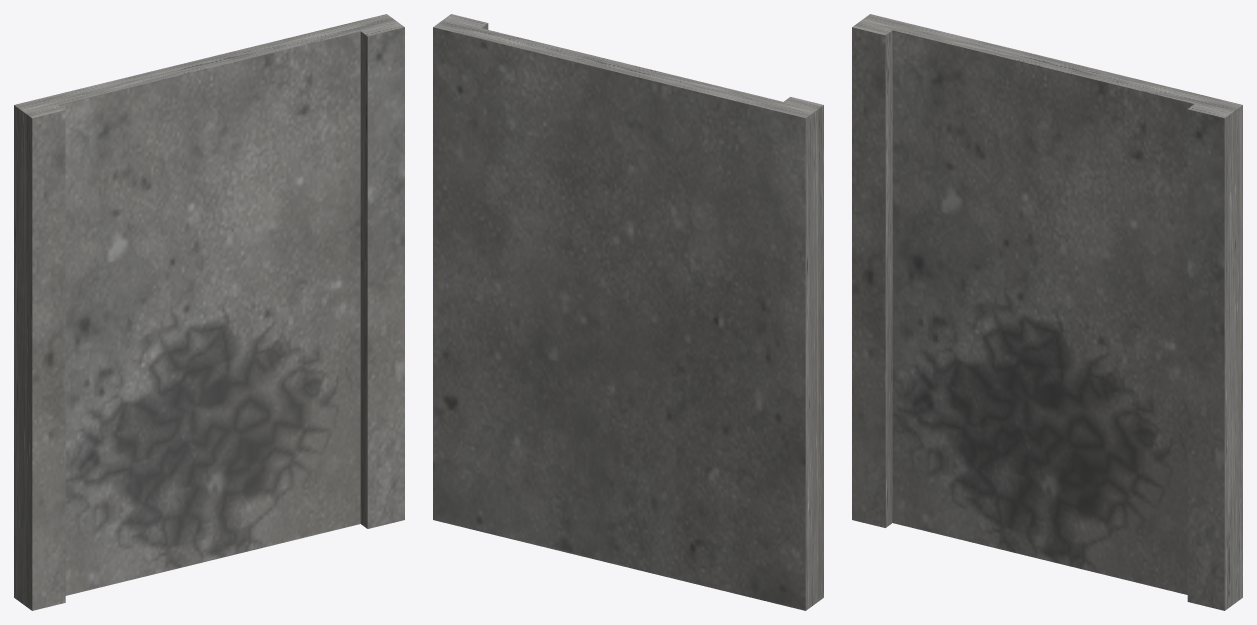
The model's file is Pared_3.glb.
3 views of the same model, side by side, from view 1: azimuth 30°, elevation 25°; view 2: azimuth 150°, elevation 25°; view 3: azimuth 330°, elevation 25° (orthographic).
Parts seen in each view (by area): view 1: Cube.003; view 2: Cube.003; view 3: Cube.003.
Boxes of the visible parts, x1,y1,x2,y2 form: Cube.003: [14, 14, 404, 610]; Cube.003: [433, 14, 823, 610]; Cube.003: [852, 14, 1242, 610].
Size of the model in its own units: 23.5 by 29.68 by 1.98.
Materials: 1 (1 with a texture image).
